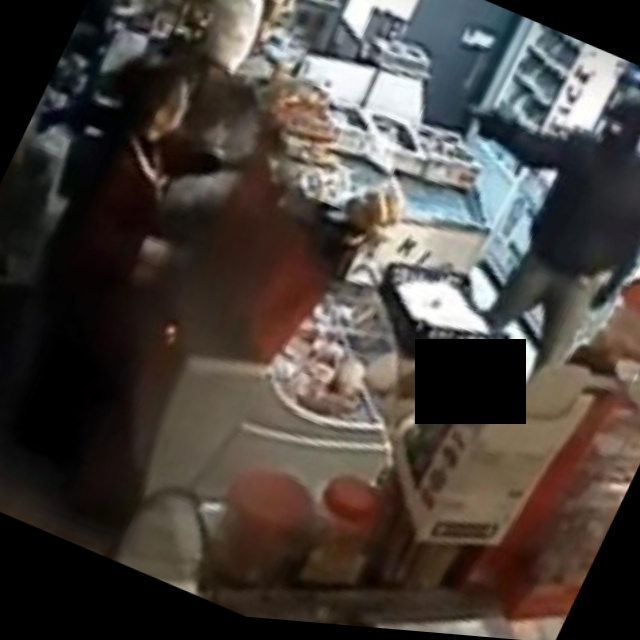gun: (450, 87, 515, 147)
